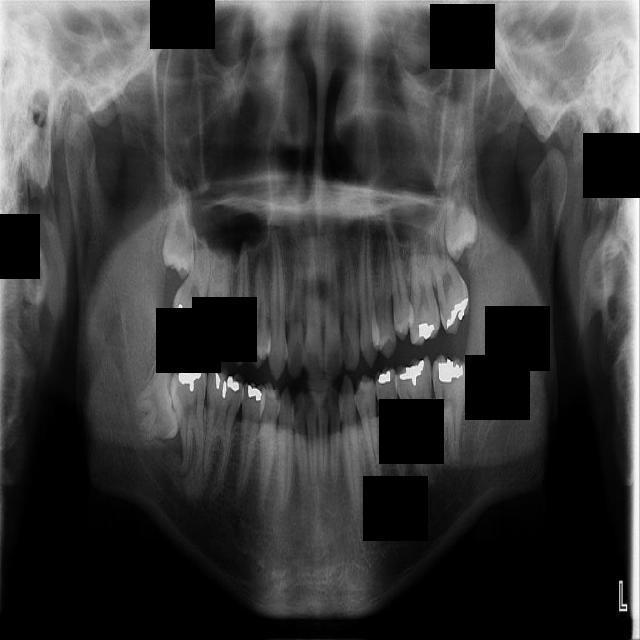3M ESPE Implant: (161, 180, 195, 279)
52: (196, 363, 252, 419), (388, 355, 443, 409), (165, 359, 214, 417), (434, 265, 473, 336), (167, 278, 207, 347), (197, 307, 238, 361), (428, 354, 472, 404), (409, 288, 441, 346), (370, 366, 403, 409), (240, 381, 266, 418)
73: (610, 576, 614, 585)
BioHorizons Implant: (422, 196, 475, 336)
BioLife Implant: (438, 156, 481, 263)
Blue Sky Bio Implant: (430, 353, 476, 466)
Caries: (166, 224, 217, 347)
Implant: (167, 358, 208, 477)
Keystone Dental Implant: (130, 363, 187, 443)
